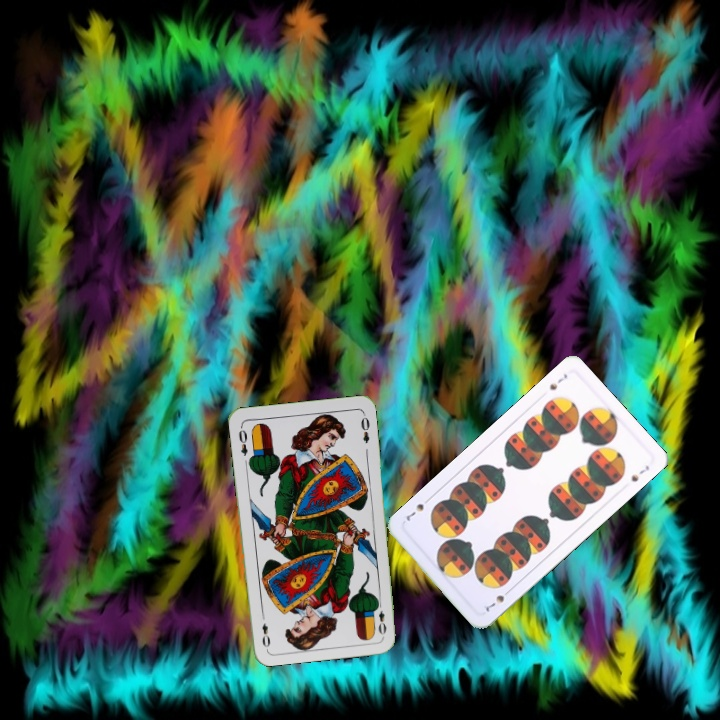EO: (372, 597, 389, 637), (234, 422, 250, 458)
S7: (481, 585, 514, 615), (545, 369, 570, 393)
